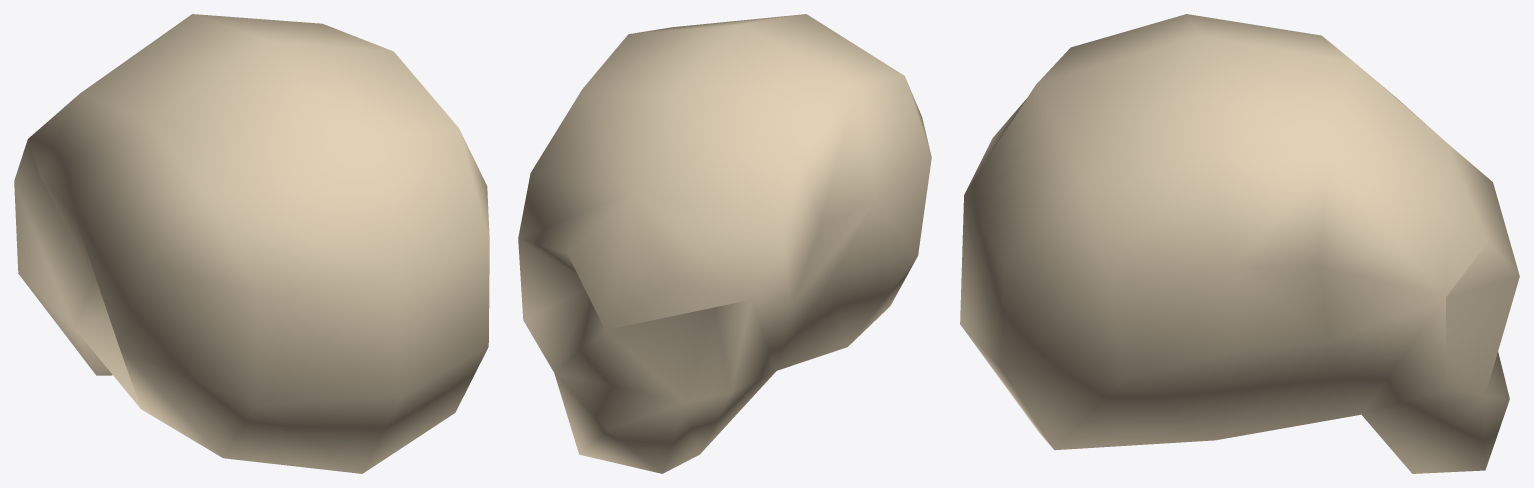
File: Prop_Sm_HumanSkull_1_A.fbx
3 renders of one model, left to right at view 1: azimuth 30°, elevation 25°; view 2: azimuth 150°, elevation 25°; view 3: azimuth 270°, elevation 25°, orthographic. The views are drawn at different scales.
Visible parts, largest first — view 1: HumanSkull_1_low; view 2: HumanSkull_1_low; view 3: HumanSkull_1_low.
Part boxes in pixels (box(x1,y1,x2,y2)): HumanSkull_1_low: box(14, 14, 489, 473); HumanSkull_1_low: box(518, 14, 931, 473); HumanSkull_1_low: box(960, 14, 1519, 473).
Bounding box in the file's own units: 0.2148 × 0.234 × 0.2876.
